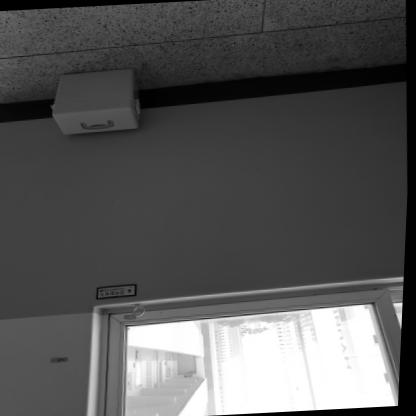DDL: (49, 67, 144, 136)
